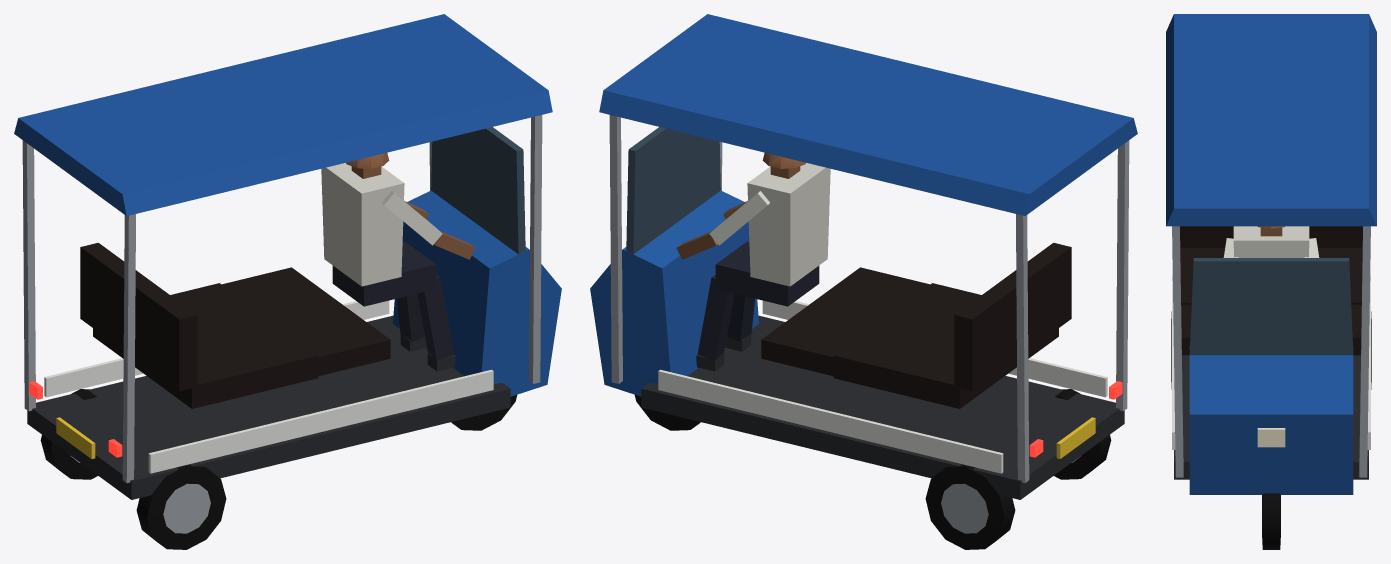
Rendered from e_rickshaw.glb.
The picture shows the model from 3 angles, left to right: view 1: azimuth 30°, elevation 25°; view 2: azimuth 150°, elevation 25°; view 3: azimuth 270°, elevation 25°; orthographic projection. The views are drawn at different scales.
Visible parts, largest first — view 1: e_rickshaw_body, wheel_rr.001, wheel_rl.001, wheel_f.003; view 2: e_rickshaw_body, wheel_rl.001, wheel_rr.001, wheel_f.003; view 3: e_rickshaw_body, wheel_f.003.
Boxes of the visible parts, bbox=[...] form: e_rickshaw_body: bbox=[14, 14, 561, 499]; wheel_rr.001: bbox=[136, 464, 226, 549]; wheel_rl.001: bbox=[40, 389, 97, 479]; wheel_f.003: bbox=[451, 395, 517, 430]; e_rickshaw_body: bbox=[590, 14, 1137, 499]; wheel_rl.001: bbox=[925, 464, 1015, 549]; wheel_rr.001: bbox=[1054, 389, 1111, 479]; wheel_f.003: bbox=[634, 395, 700, 430]; e_rickshaw_body: bbox=[1166, 14, 1376, 494]; wheel_f.003: bbox=[1262, 493, 1280, 549].
Size of the model in its own units: 2.49 by 1.96 by 1.08.
Materials: 2 (1 with a texture image).
